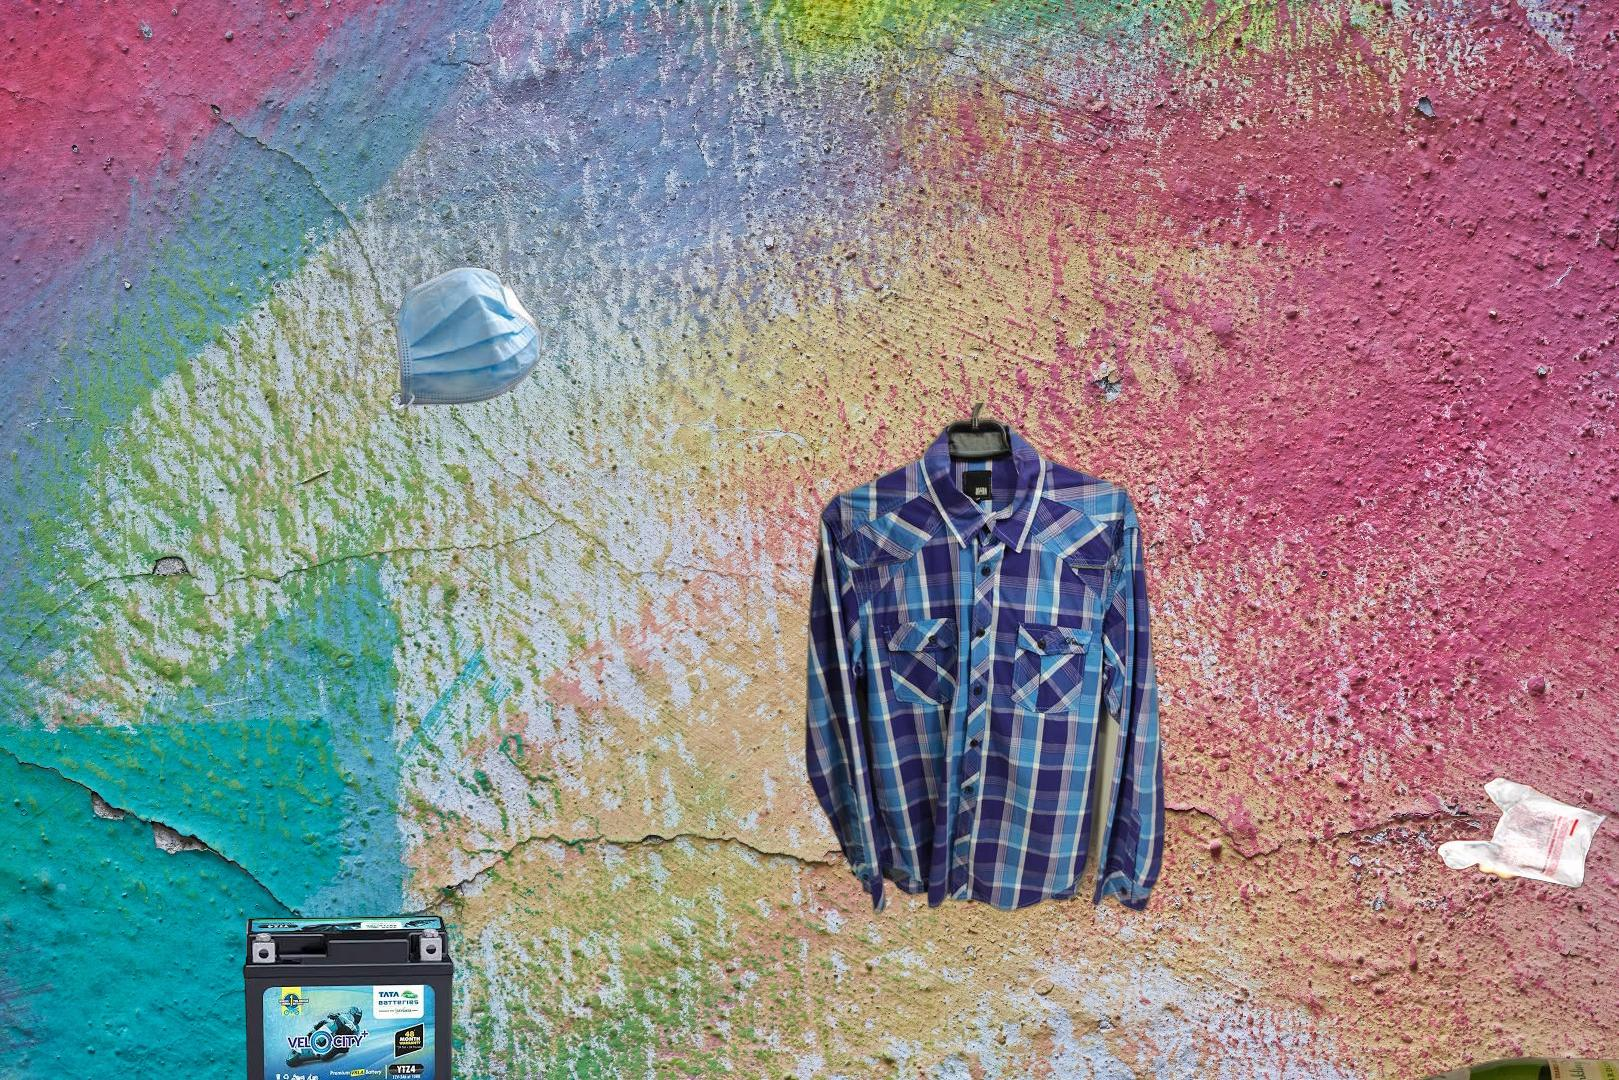battery: (240, 912, 457, 1080)
clothes: (802, 403, 1168, 918), (1515, 8, 1619, 333)
glass: (1268, 1053, 1619, 1080)
plastic-bag: (1435, 774, 1619, 891)
trash: (351, 264, 563, 418)
